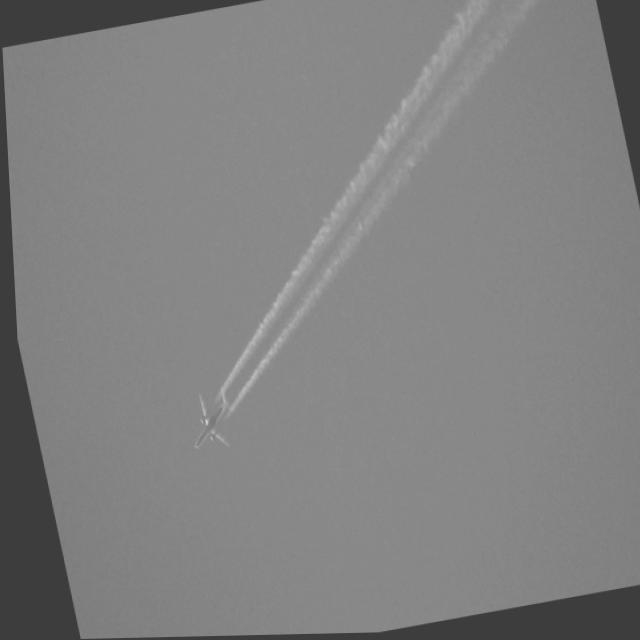aeroplane: (174, 378, 243, 465)
